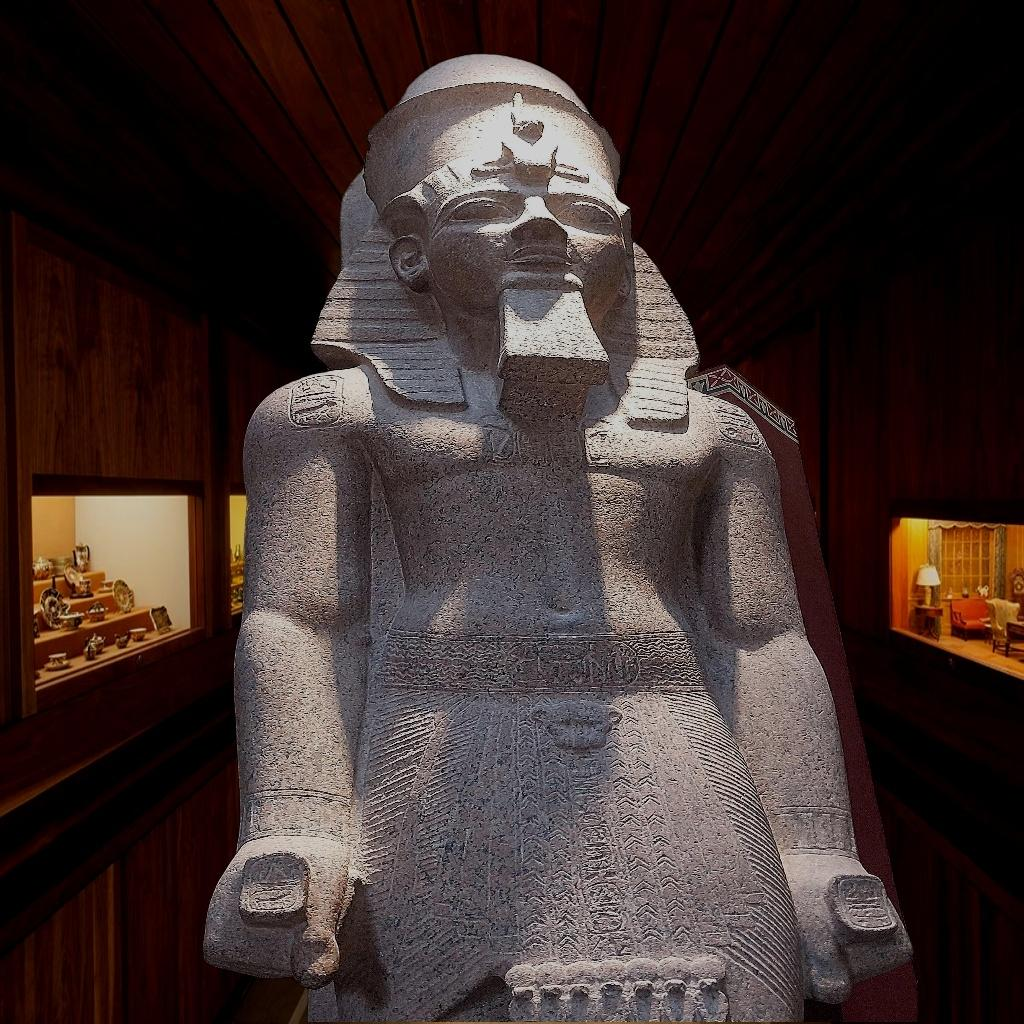Colossal Statue of Ramesses II: (198, 50, 918, 1022)
